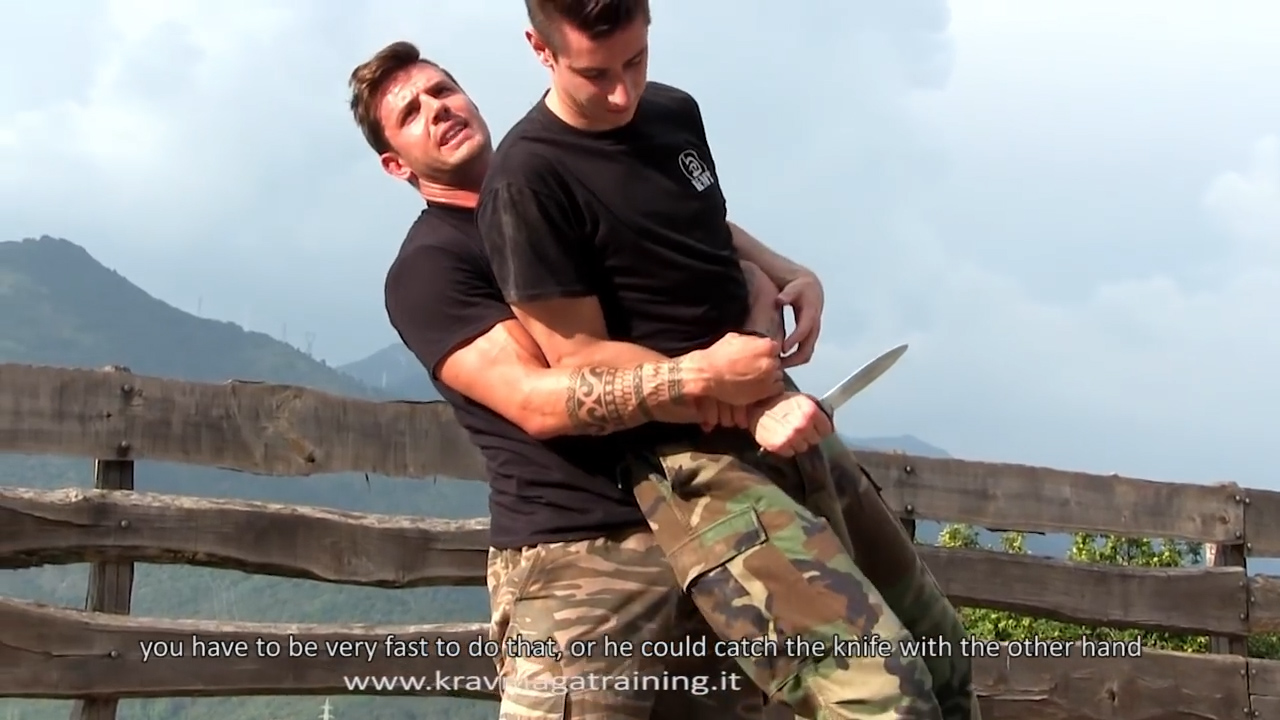knife: (749, 333, 919, 466)
